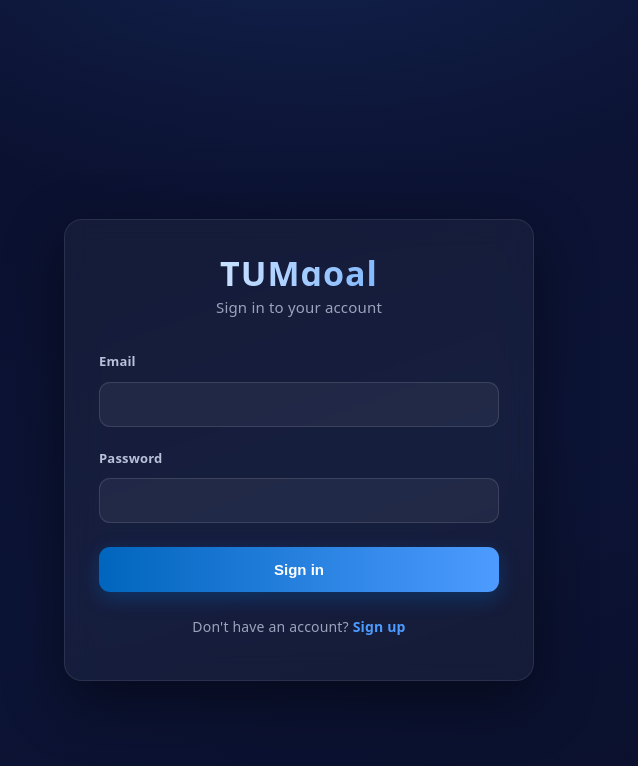
Login page › shows error message when login fails
The width and height of the screenshot is (638, 766).
Type "wrong@example.com" into the field labelled "Email" at (299, 404), box [99,382,499,426]
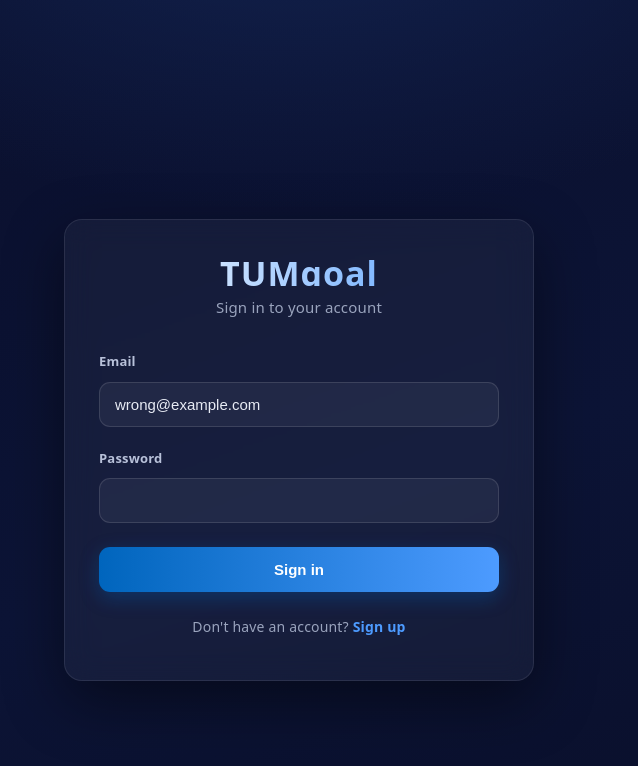
Type "wrong-password" into the password field labelled "Password" at (299, 500), box [99,478,499,523]
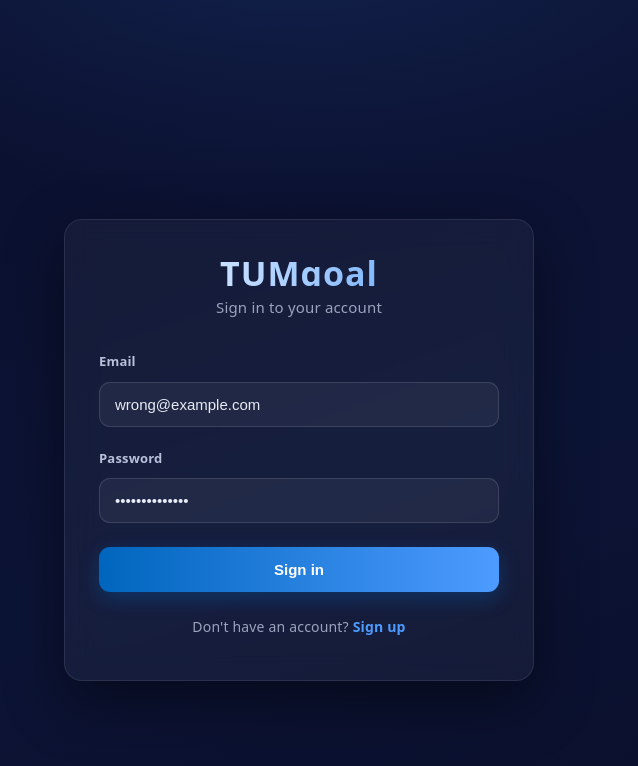
Click the button "Sign in" at (299, 569), box [99,547,499,592]
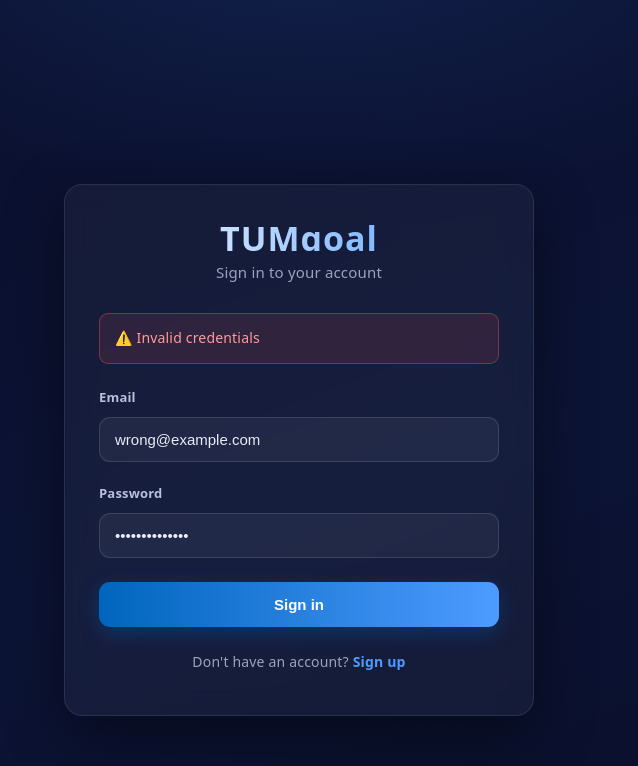
Expected: the text "⚠️ Invalid credentials" is shown, [99,313,499,364]
